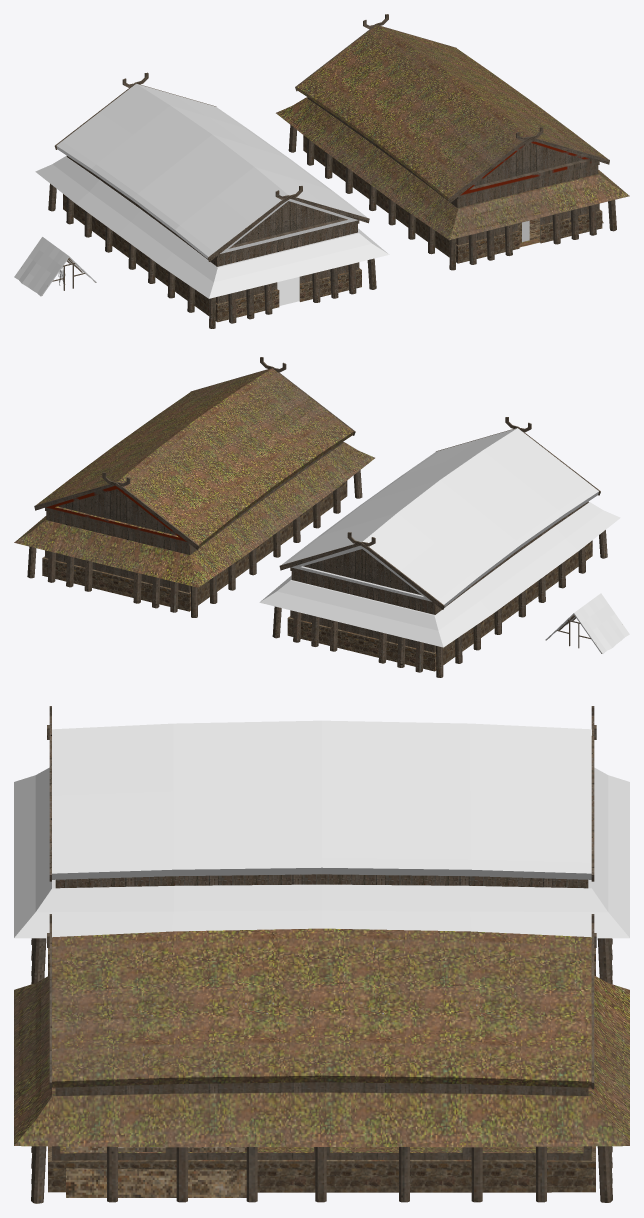
File: Grove Defense 3D Assets Castle Walls 1.fbx
3 renders of one model, top to bottom at view 1: azimuth 30°, elevation 25°; view 2: azimuth 150°, elevation 25°; view 3: azimuth 270°, elevation 25°, orthographic. The views are drawn at different scales.
Parts seen in each view (by area): view 1: GD Assets Viking Castle.001, GD Assets Viking Castle Baked, GD Assets, GD Assets Viking Hut 1; view 2: GD Assets Viking Castle Baked, GD Assets Viking Castle.001, GD Assets; view 3: GD Assets Viking Castle Baked, GD Assets Viking Castle.001, GD Assets Viking Hut 1.
Boxes of the visible parts, bbox=[...] form: GD Assets Viking Castle.001: bbox=[35, 72, 389, 328]; GD Assets Viking Castle Baked: bbox=[276, 14, 629, 270]; GD Assets: bbox=[14, 237, 96, 296]; GD Assets Viking Hut 1: bbox=[518, 218, 603, 243]; GD Assets Viking Castle Baked: bbox=[14, 357, 374, 617]; GD Assets Viking Castle.001: bbox=[259, 417, 620, 677]; GD Assets: bbox=[545, 593, 629, 653]; GD Assets Viking Castle Baked: bbox=[14, 914, 629, 1203]; GD Assets Viking Castle.001: bbox=[14, 706, 629, 984]; GD Assets Viking Hut 1: bbox=[66, 1146, 246, 1197].
Size of what is drawn, in the model's own units: 5379 by 1173 by 3147.
